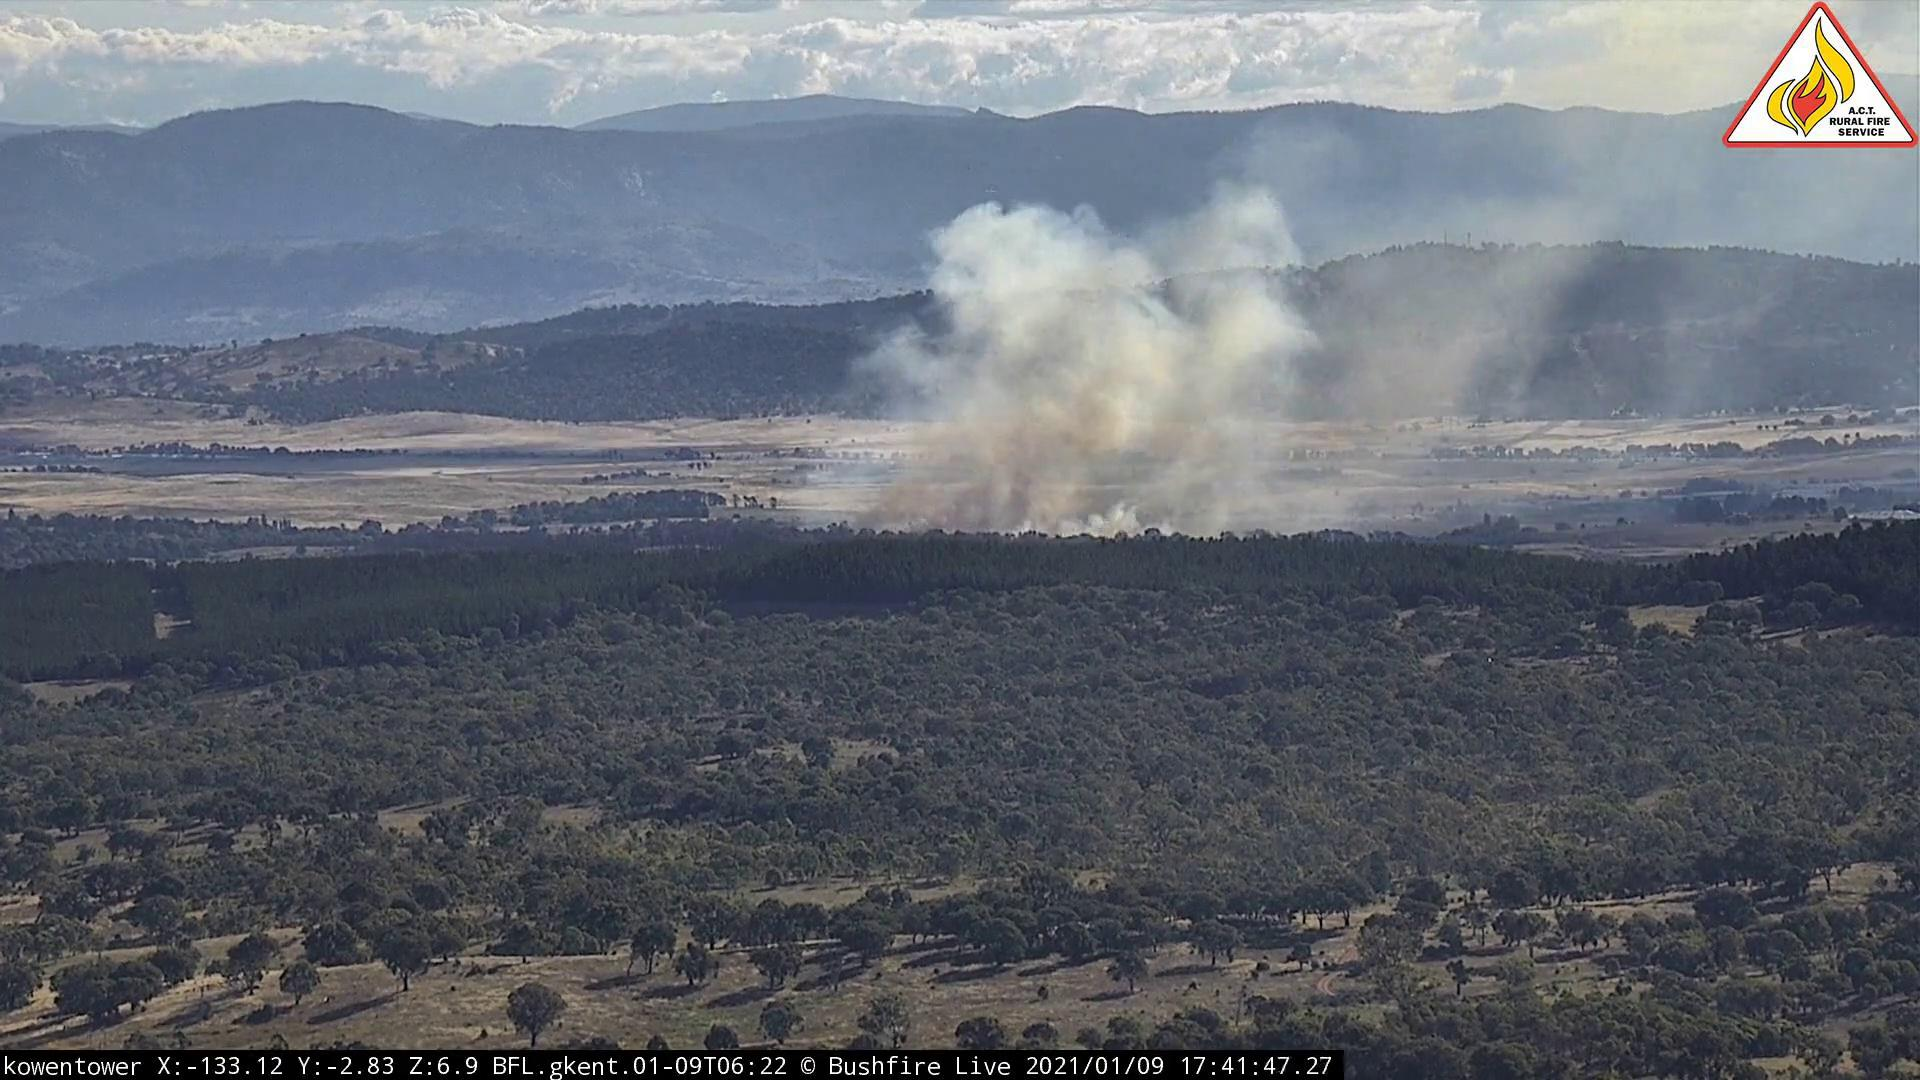Smoke: (746, 121, 1717, 550)
